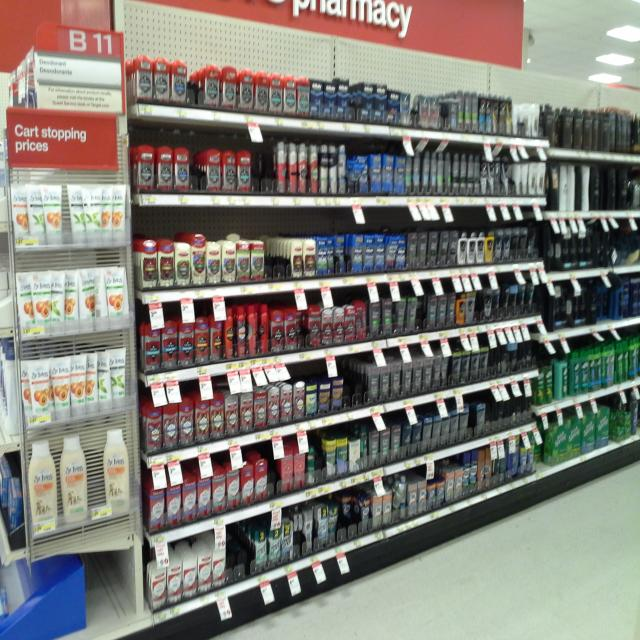empty: (249, 137, 284, 206), (255, 229, 297, 283), (220, 523, 257, 584), (336, 356, 369, 408), (190, 136, 214, 195), (186, 55, 210, 106)
